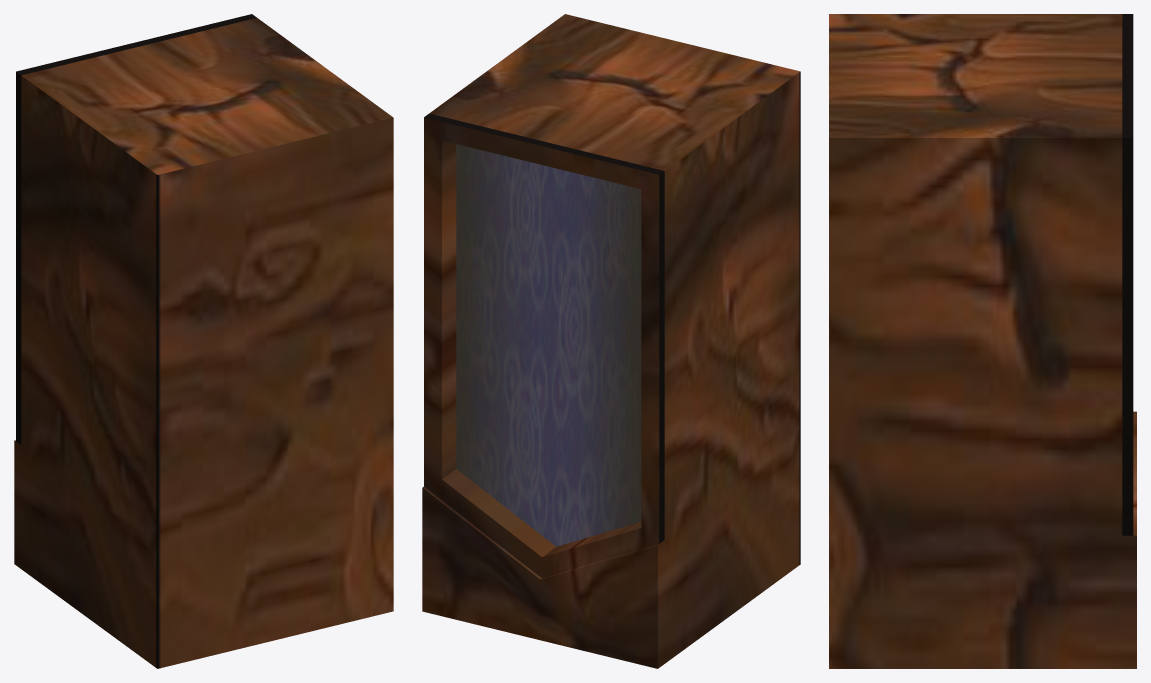
Rendered from chrisWallinset.glb.
3 renders of one model, left to right at view 1: azimuth 30°, elevation 25°; view 2: azimuth 150°, elevation 25°; view 3: azimuth 270°, elevation 25°, orthographic. The views are drawn at different scales.
Parts seen in each view (by area): view 1: Cube.001; view 2: Cube.001; view 3: Cube.001.
Part boxes in pixels (<box>): Cube.001: <box>14,14,393,668</box>; Cube.001: <box>422,14,800,668</box>; Cube.001: <box>829,14,1136,668</box>.
Size of the model in its own units: 2 by 4 by 2.1.
Materials: 2 (2 with a texture image).
